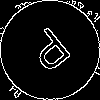P: (25, 25, 79, 81)
